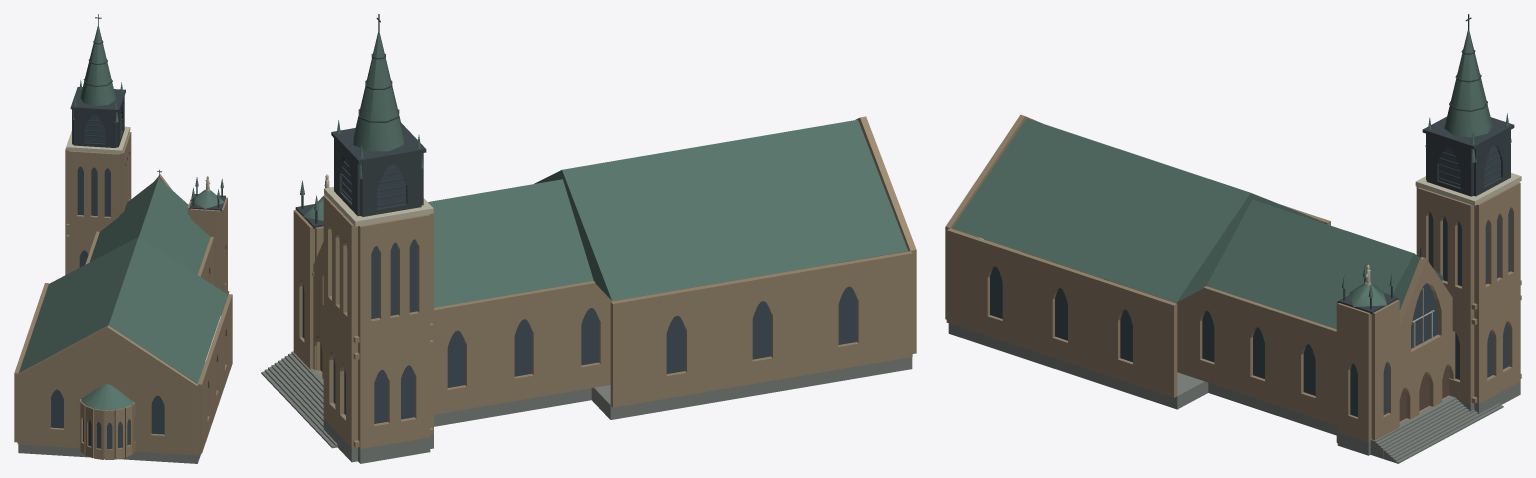
File: basilique-saint-frederic-drummondville-far.glb
The picture shows the model from 3 angles, left to right: view 1: azimuth 30°, elevation 25°; view 2: azimuth 150°, elevation 25°; view 3: azimuth 270°, elevation 25°; orthographic projection. The views are drawn at different scales.
Parts seen in each view (by area): view 1: basilique-saint-frederic-drummondville-0-stone, basilique-saint-frederic-drummondville-0-copper, basilique-saint-frederic-drummondville-0-glass, basilique-saint-frederic-drummondville-0-iron, basilique-saint-frederic-drummondville-0-base, basilique-saint-frederic-drummondville-0-trim; view 2: basilique-saint-frederic-drummondville-0-stone, basilique-saint-frederic-drummondville-0-copper, basilique-saint-frederic-drummondville-0-base, basilique-saint-frederic-drummondville-0-glass, basilique-saint-frederic-drummondville-0-iron, basilique-saint-frederic-drummondville-0-trim; view 3: basilique-saint-frederic-drummondville-0-stone, basilique-saint-frederic-drummondville-0-copper, basilique-saint-frederic-drummondville-0-base, basilique-saint-frederic-drummondville-0-glass, basilique-saint-frederic-drummondville-0-iron, basilique-saint-frederic-drummondville-0-trim, basilique-saint-frederic-drummondville-0-door.
Boxes of the visible parts, x1,y1,x2,y2 form: basilique-saint-frederic-drummondville-0-stone: [14, 131, 232, 459]; basilique-saint-frederic-drummondville-0-copper: [19, 26, 227, 410]; basilique-saint-frederic-drummondville-0-glass: [51, 113, 164, 449]; basilique-saint-frederic-drummondville-0-iron: [70, 14, 225, 210]; basilique-saint-frederic-drummondville-0-base: [18, 291, 229, 463]; basilique-saint-frederic-drummondville-0-trim: [66, 126, 210, 191]; basilique-saint-frederic-drummondville-0-stone: [293, 116, 916, 448]; basilique-saint-frederic-drummondville-0-copper: [300, 32, 907, 307]; basilique-saint-frederic-drummondville-0-base: [261, 351, 912, 463]; basilique-saint-frederic-drummondville-0-glass: [302, 157, 857, 423]; basilique-saint-frederic-drummondville-0-iron: [295, 14, 426, 228]; basilique-saint-frederic-drummondville-0-trim: [324, 174, 433, 226]; basilique-saint-frederic-drummondville-0-stone: [945, 114, 1521, 442]; basilique-saint-frederic-drummondville-0-copper: [952, 30, 1511, 329]; basilique-saint-frederic-drummondville-0-base: [948, 323, 1520, 463]; basilique-saint-frederic-drummondville-0-glass: [990, 144, 1510, 416]; basilique-saint-frederic-drummondville-0-iron: [1338, 14, 1514, 314]; basilique-saint-frederic-drummondville-0-trim: [1365, 173, 1521, 347]; basilique-saint-frederic-drummondville-0-door: [1399, 365, 1449, 421].
Bounding box in the file's own units: 54.61 × 45.72 × 62.61.
